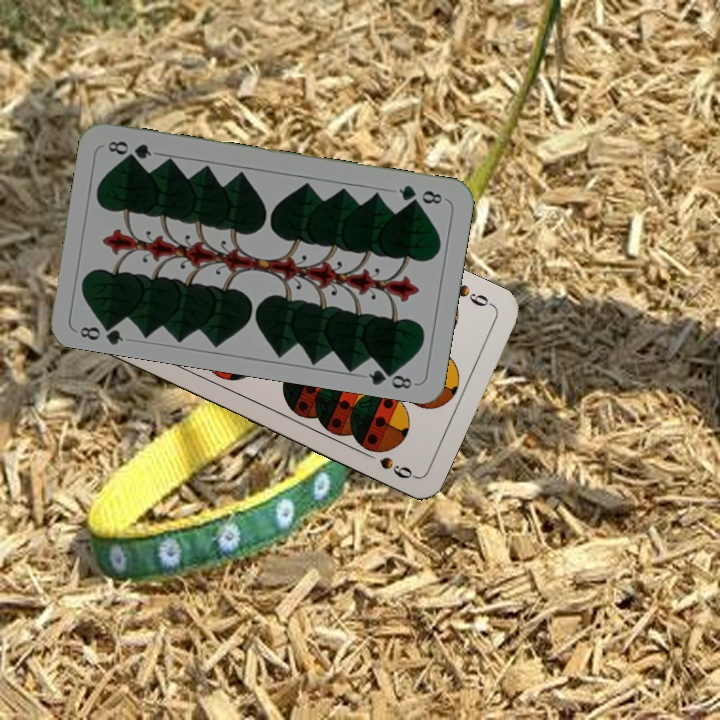G8: (76, 316, 126, 347), (394, 181, 448, 207)
S9: (451, 280, 497, 310)
